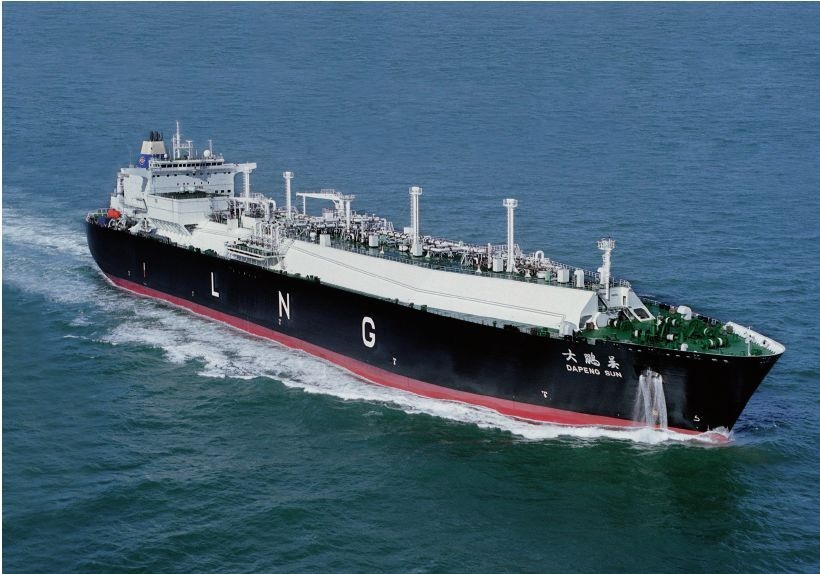Cargoship: (79, 120, 799, 441)
